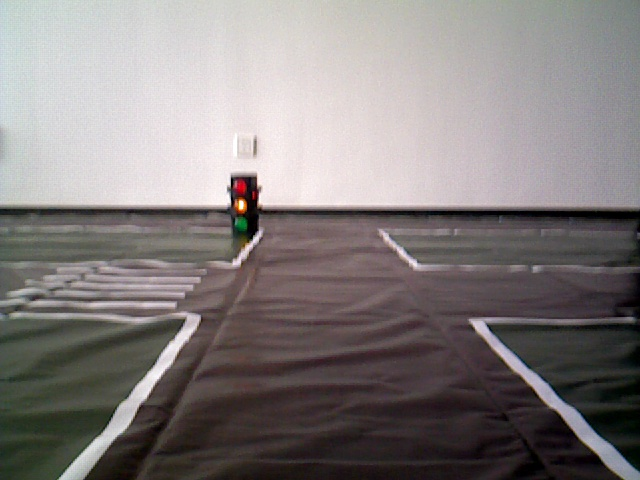yellow: (231, 175, 256, 238)
